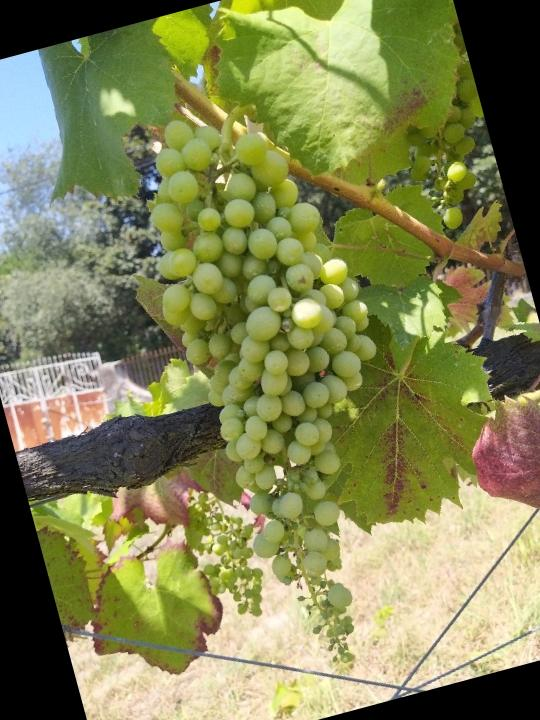grape: (113, 82, 457, 691), (181, 479, 281, 633)
